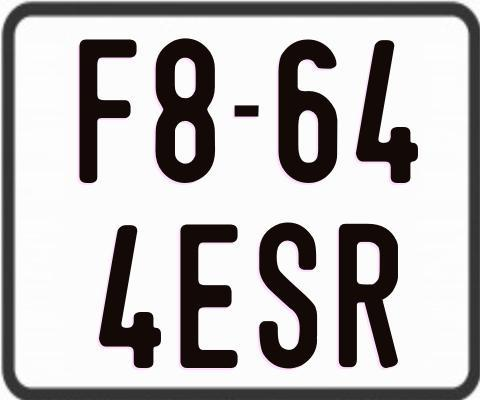4: (96, 225, 164, 371), (353, 40, 419, 184)
6: (278, 40, 340, 184)
8: (154, 38, 219, 185)
E: (180, 221, 240, 369)
F: (77, 36, 139, 181)
R: (336, 223, 399, 373)
S: (256, 221, 316, 369)
